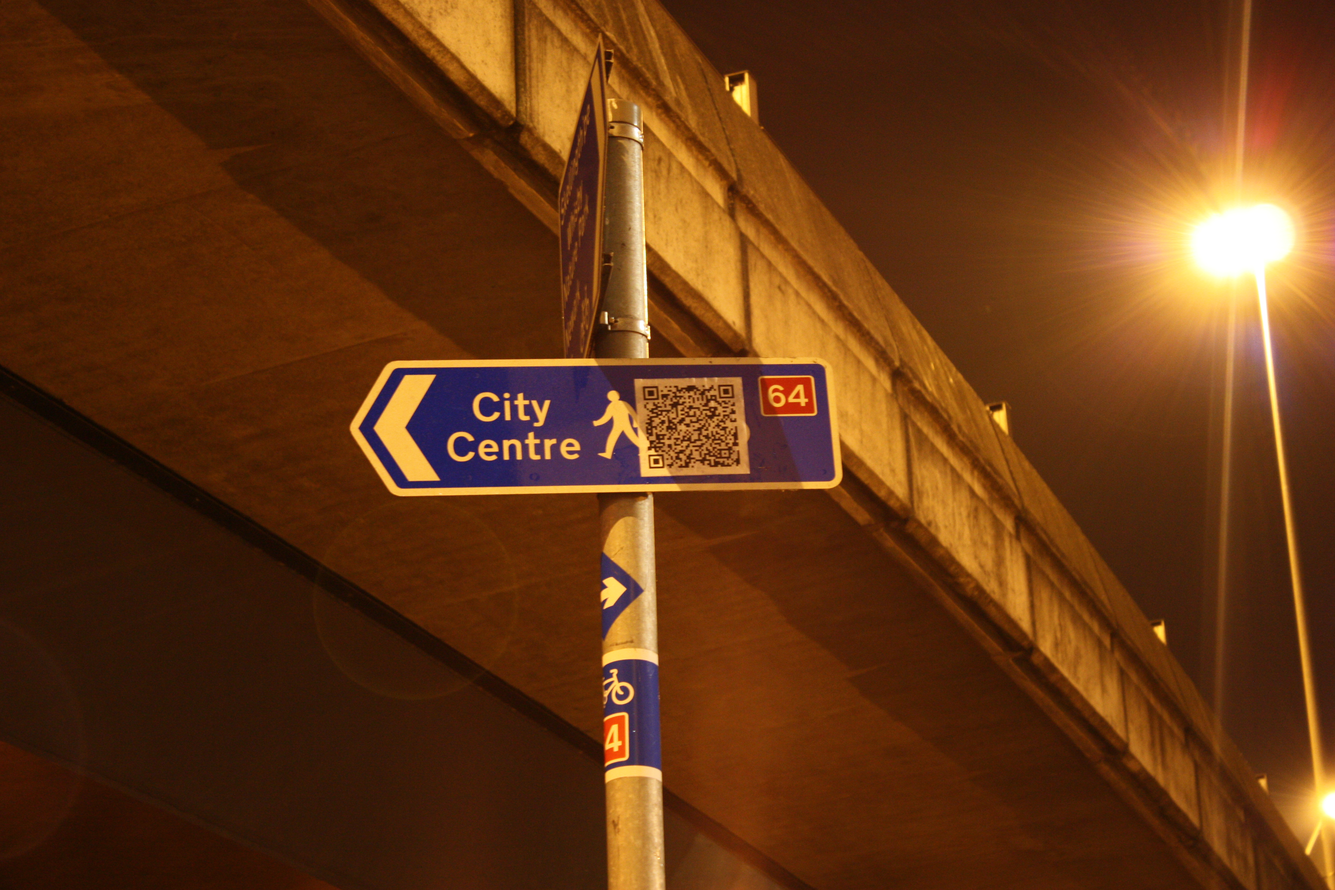QR-CODE: (643, 385, 741, 468)
